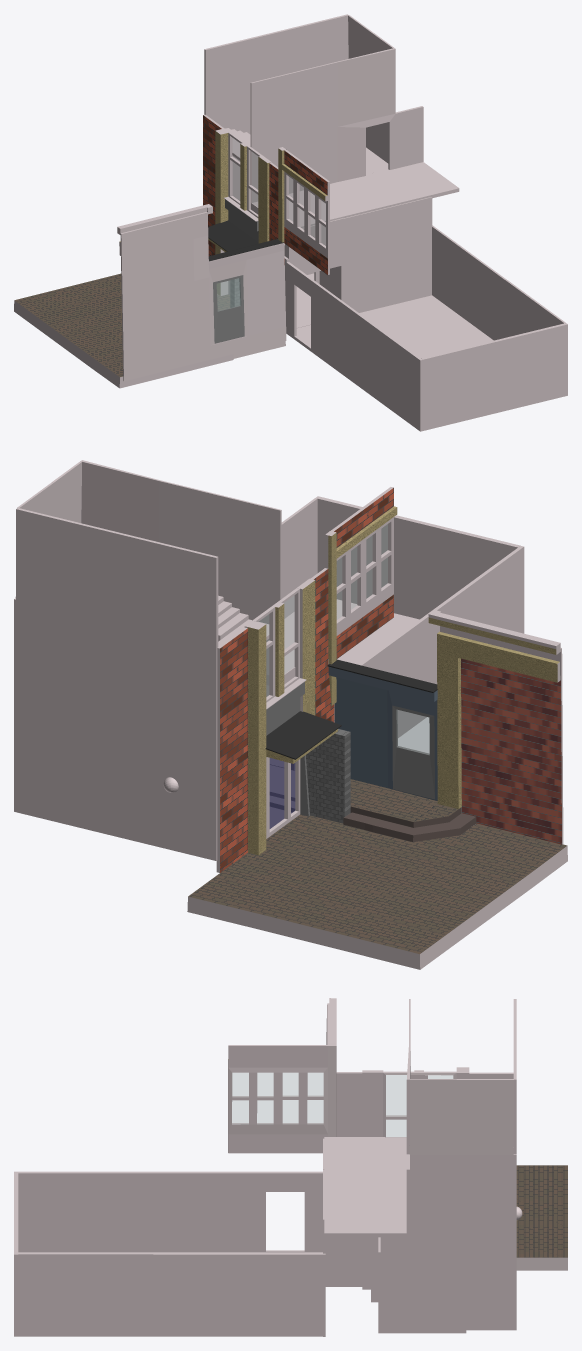
The model's file is schoolCHC.glb.
3 views of the same model, one above another, from view 1: azimuth 30°, elevation 25°; view 2: azimuth 150°, elevation 25°; view 3: azimuth 270°, elevation 25° (orthographic). The views are drawn at different scales.
Visible parts, largest first — view 1: Cube; view 2: Cube; view 3: Cube.
Part boxes in pixels (x1,y1,x2,y2): Cube: [14, 14, 567, 431]; Cube: [14, 460, 567, 969]; Cube: [14, 998, 567, 1336].
Bounding box in the file's own units: 63.59 × 42.52 × 77.97.
Materials: 13 (5 with a texture image).
